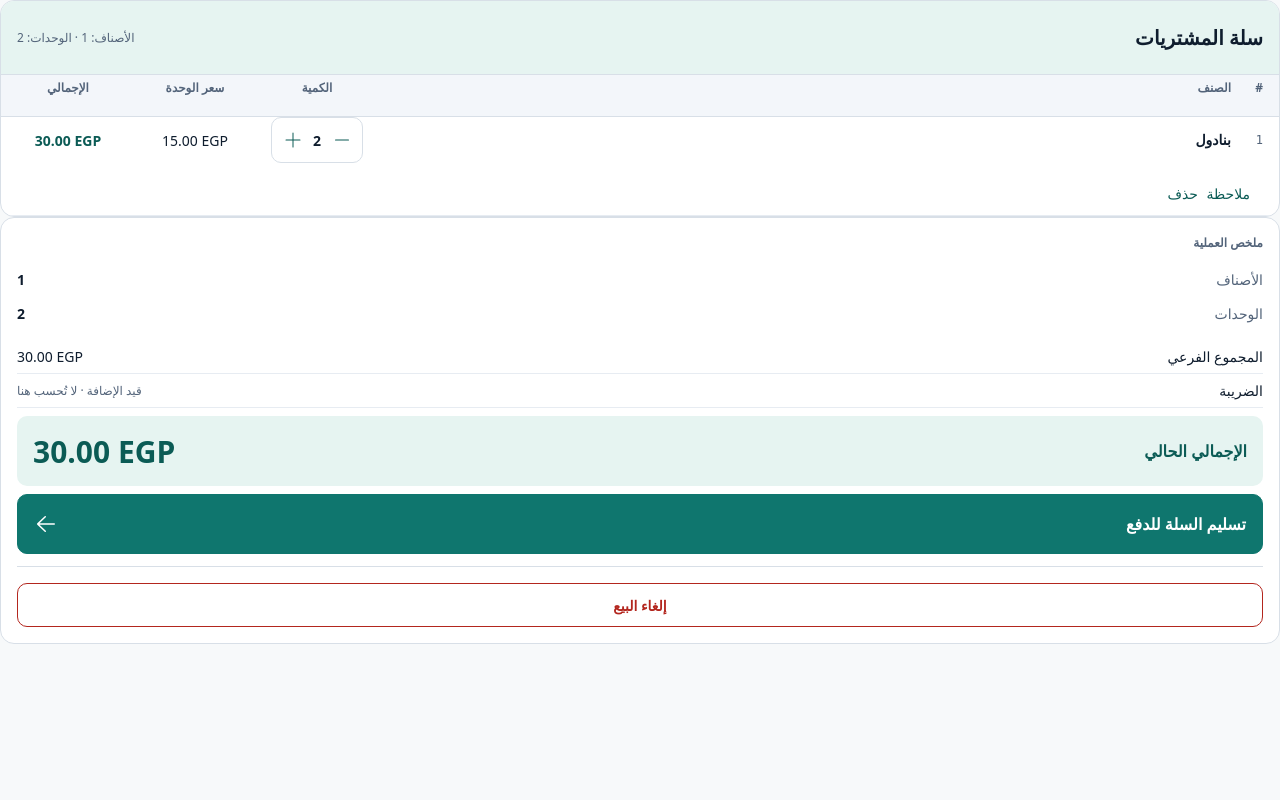
Test case: LiveSaleCart controls › closes the void and note dialogs from their secondary buttons without side effects
What coordinates should you click on to do the following:
click the button "إلغاء البيع"
I would click on:
 (640, 605)
Its box is [17, 583, 1263, 627].
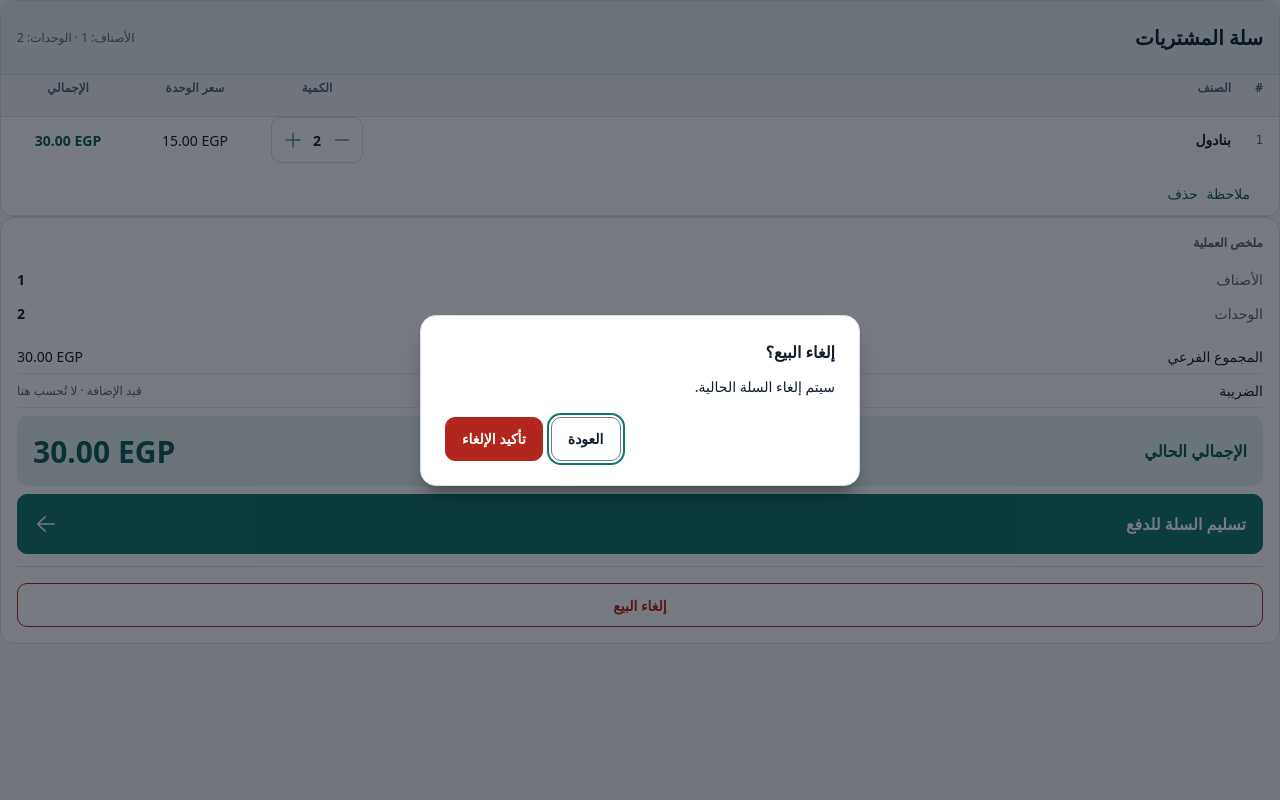
What coordinates should you click on to do the following:
click the button "العودة"
I would click on:
 (586, 438)
Its box is [551, 416, 620, 460].
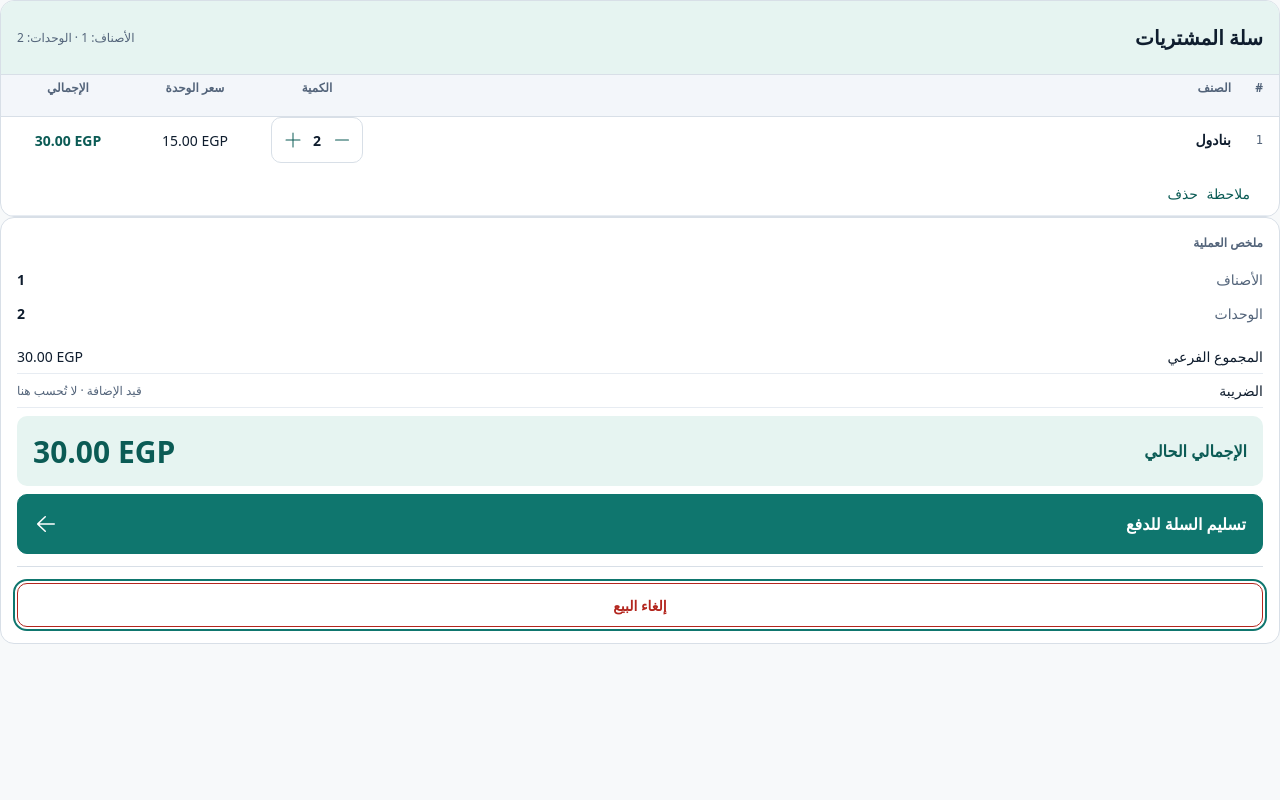
Expected: the dialog is gone
What coordinates should you click on to do the following:
click the button "ملاحظة"
I would click on:
 (1241, 193)
Its box is [1219, 171, 1263, 215].
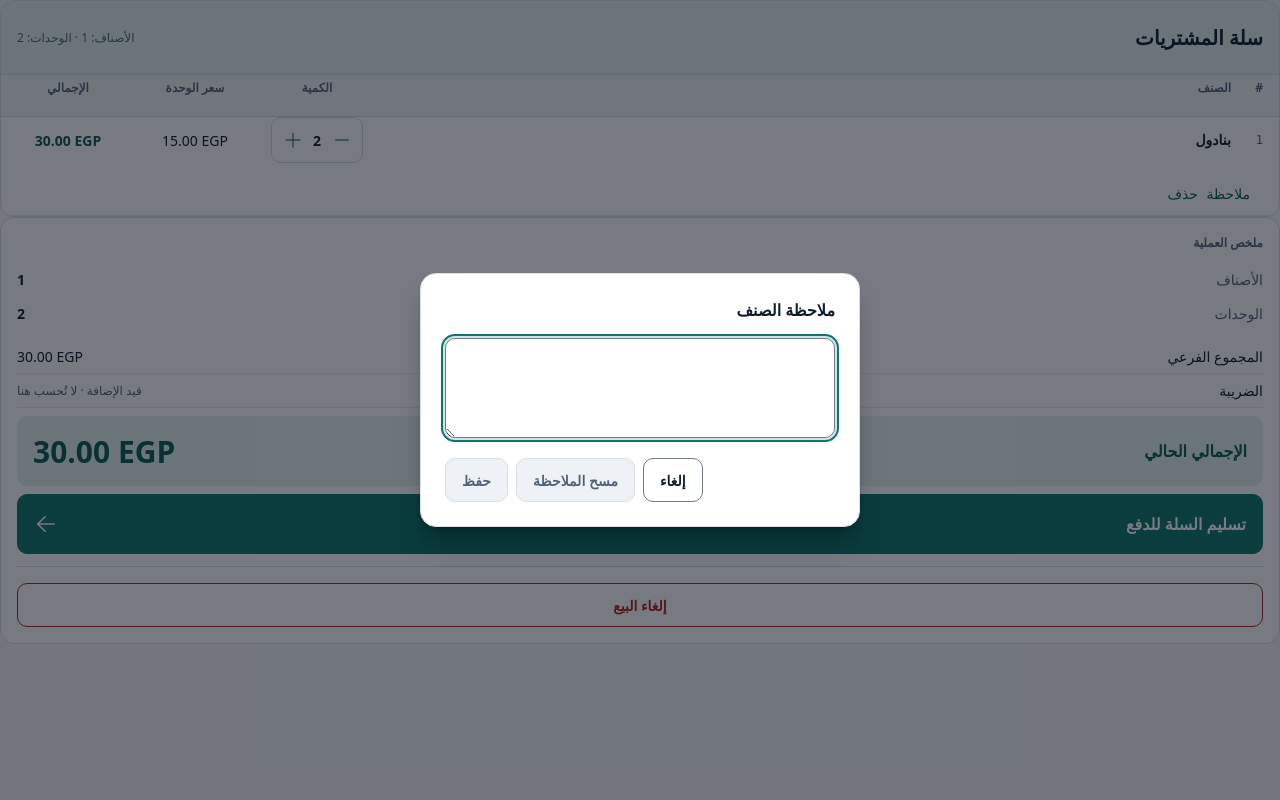
What coordinates should you click on to do the following:
click the button "إلغاء"
I would click on:
 (673, 480)
Its box is [643, 458, 703, 502].
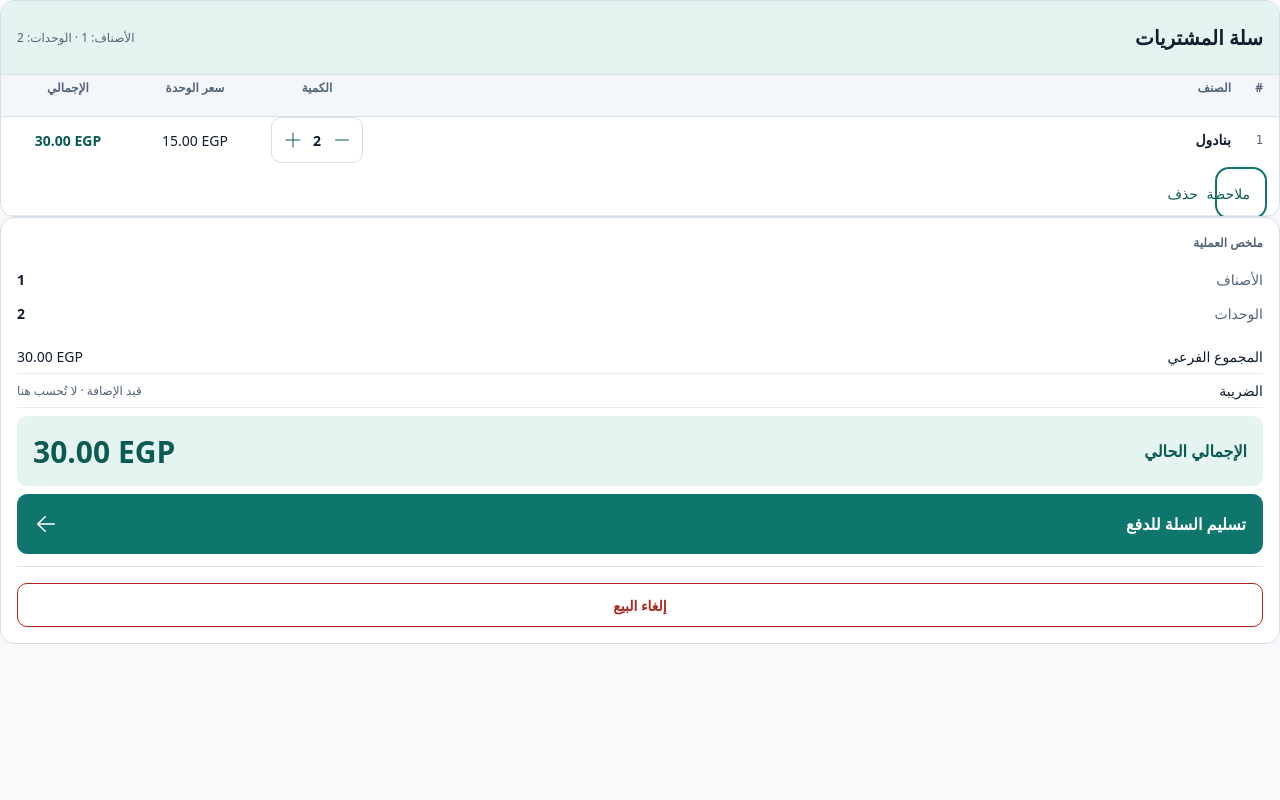
Expected: the dialog is gone
